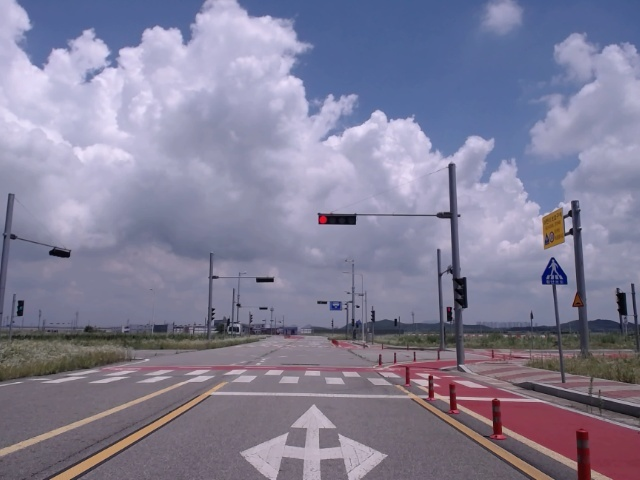red_4: (318, 215, 356, 225)
